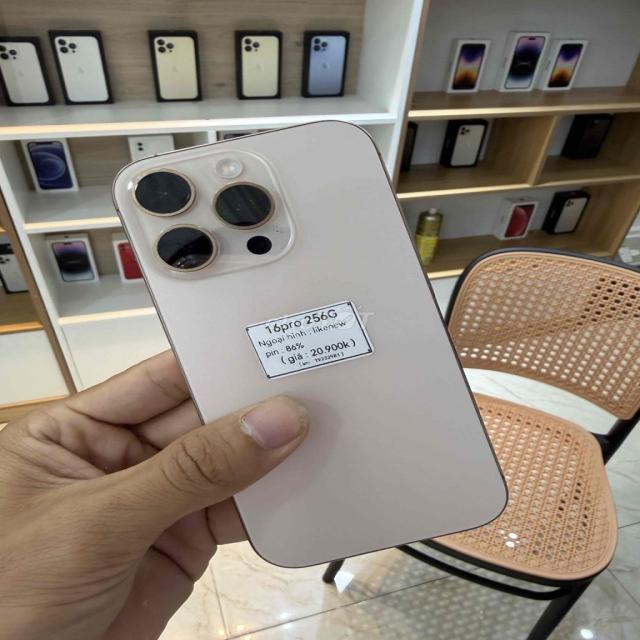gen_16: (109, 124, 518, 563)
